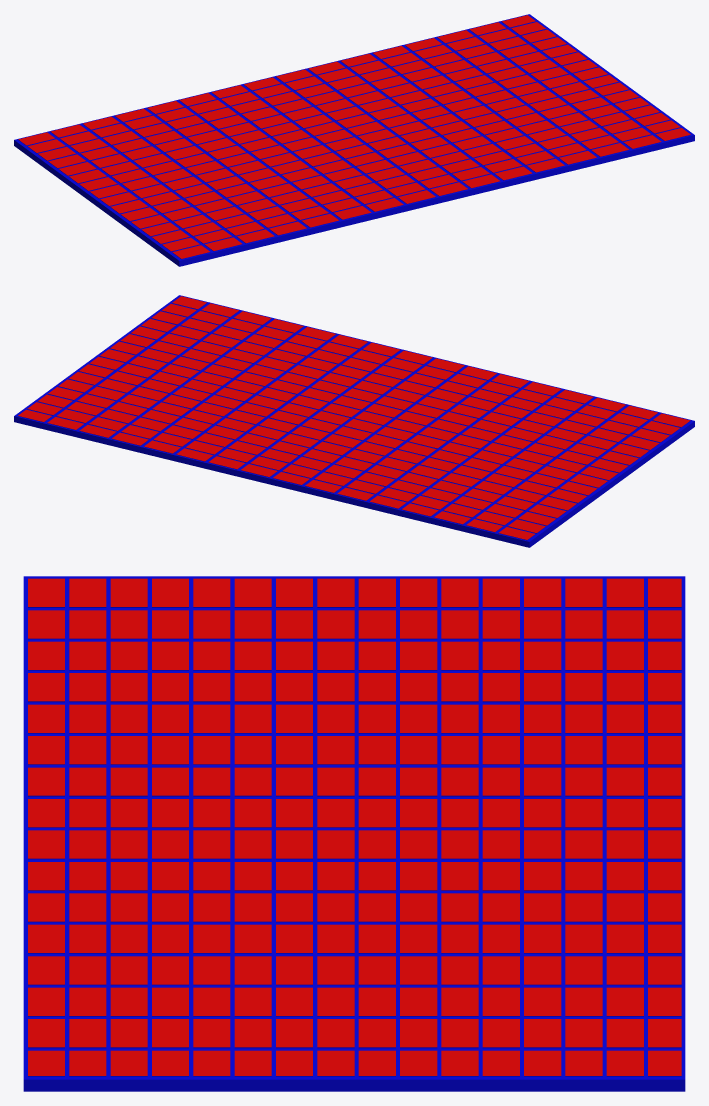
File: rooflarge.fbx
3 views of the same model, one above another, from view 1: azimuth 30°, elevation 25°; view 2: azimuth 150°, elevation 25°; view 3: azimuth 270°, elevation 25° (orthographic). The views are drawn at different scales.
Parts seen in each view (by area): view 1: Roof_Large; view 2: Roof_Large; view 3: Roof_Large.
Part boxes in pixels (box(x1,y1,x2,y2)): Roof_Large: box(14, 14, 694, 266); Roof_Large: box(14, 295, 694, 547); Roof_Large: box(23, 576, 685, 1091).
Bounding box in the file's own units: 90 × 1.06 × 50.
